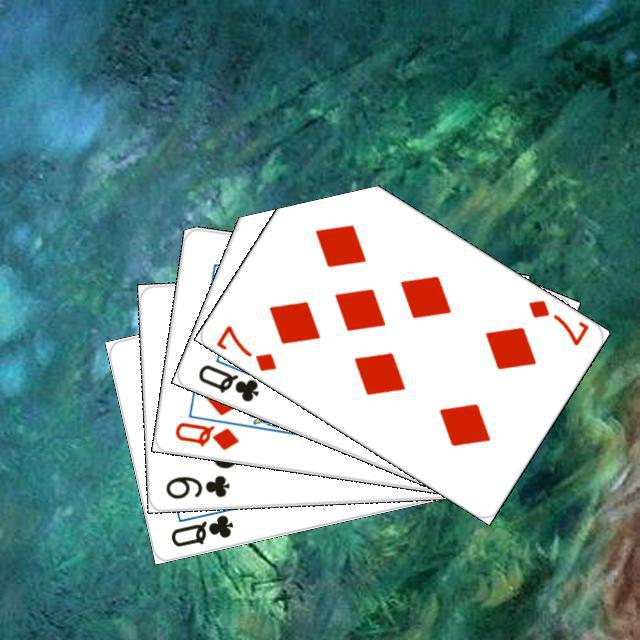7d: (212, 320, 279, 374), (523, 294, 590, 348)
9c: (161, 470, 231, 501)
Qc: (193, 351, 272, 404), (165, 502, 238, 549)
Qd: (170, 417, 240, 452)
